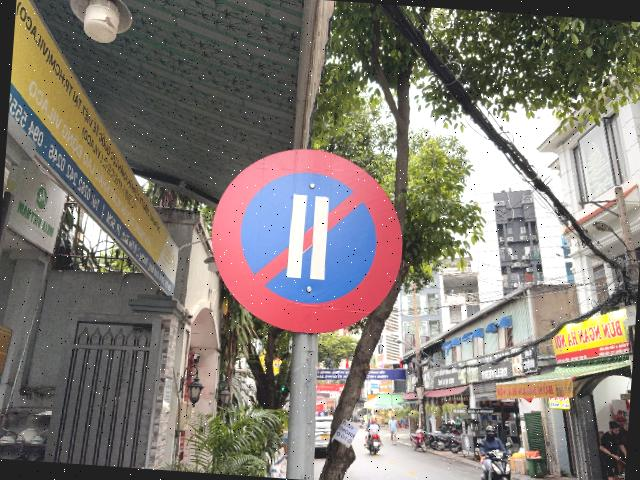cam-do-xe-ngay-chan: (204, 139, 408, 340)
